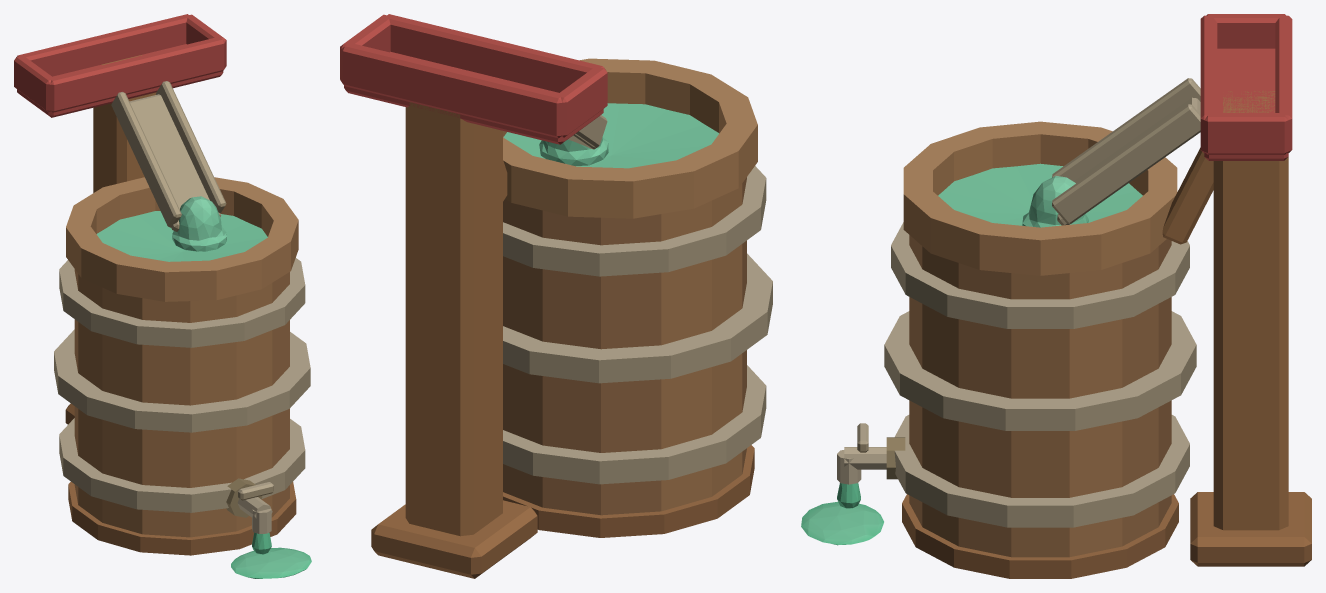
The model's file is ranch_rain_barrel.fbx.
The picture shows the model from 3 angles, left to right: view 1: azimuth 30°, elevation 25°; view 2: azimuth 150°, elevation 25°; view 3: azimuth 270°, elevation 25°; orthographic projection. The views are drawn at different scales.
Visible parts, largest first — view 1: ranch_rain_barrel; view 2: ranch_rain_barrel; view 3: ranch_rain_barrel.
Boxes of the visible parts, <box> form: ranch_rain_barrel: <box>14,14,311,578</box>; ranch_rain_barrel: <box>340,14,772,578</box>; ranch_rain_barrel: <box>801,14,1311,578</box>.
Size of the model in its own units: 3.32 by 5.55 by 5.46.
